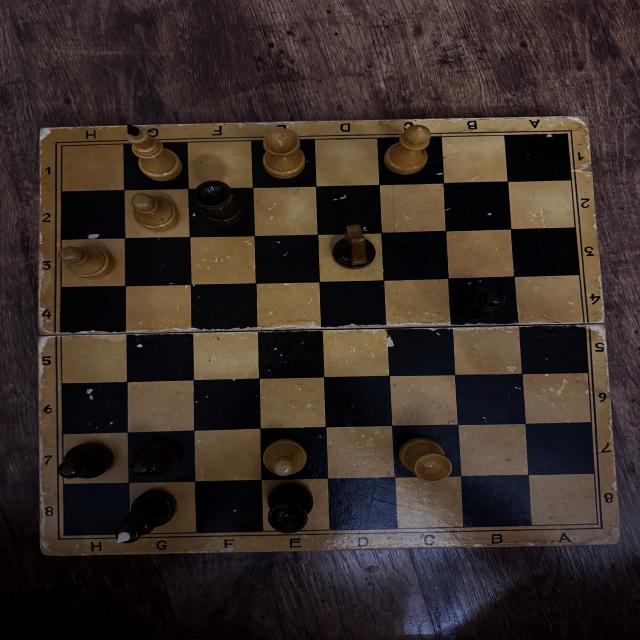black-king: (114, 489, 179, 546)
black-knight: (333, 223, 376, 269)
black-pawn: (128, 435, 183, 479), (455, 282, 511, 324), (59, 442, 114, 480)
black-rook: (264, 482, 318, 534), (191, 180, 244, 227)
white-bishop: (382, 125, 433, 177)
white-king: (123, 122, 185, 181)
white-pawn: (56, 246, 118, 279), (260, 438, 309, 478), (129, 193, 179, 231)
white-rook: (260, 128, 311, 180), (399, 436, 453, 483)
